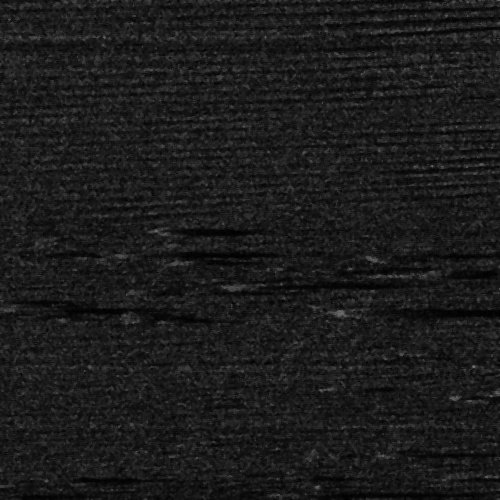object: (83, 248, 166, 257), (387, 267, 460, 276), (240, 277, 313, 286), (272, 488, 335, 497), (461, 386, 472, 411), (174, 258, 205, 263), (336, 301, 347, 314), (343, 251, 384, 254), (34, 305, 75, 308), (137, 226, 168, 229)
shadow: (341, 301, 500, 314), (277, 277, 440, 286), (304, 488, 465, 497), (125, 248, 274, 257), (466, 386, 500, 411), (424, 267, 500, 276), (190, 258, 283, 263), (55, 305, 197, 308), (364, 251, 467, 254), (153, 226, 244, 229)
